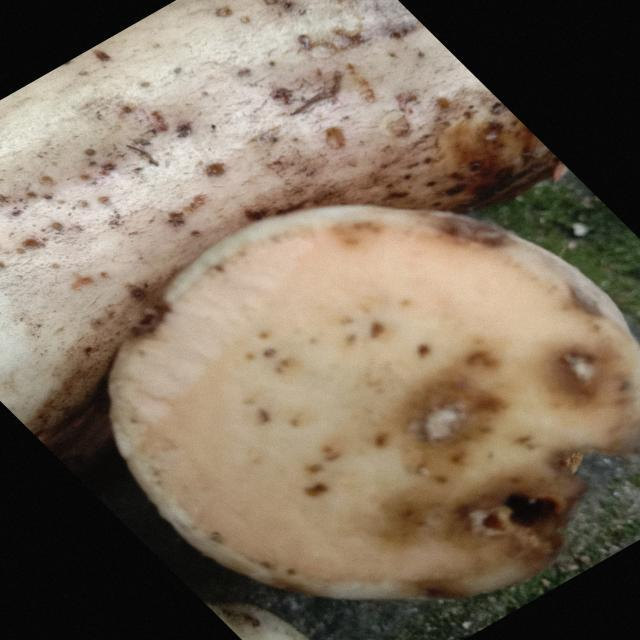Sick Sweet Potato_Tuber Rot: (110, 206, 638, 599)
